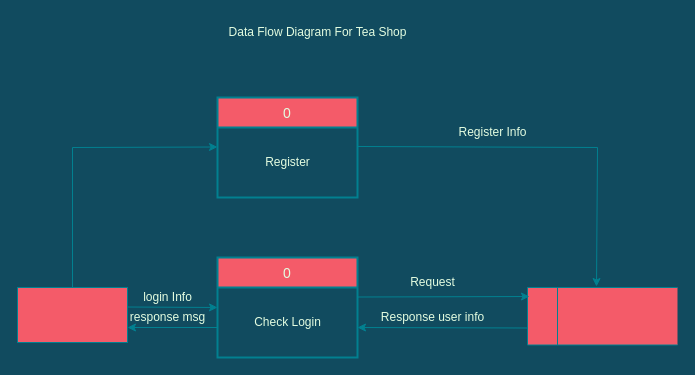
This 695x375 diagram has some shape labels left out. Each missing label, with the centre of its shape:
Customer: point (72, 314)
Users: point (602, 315)
